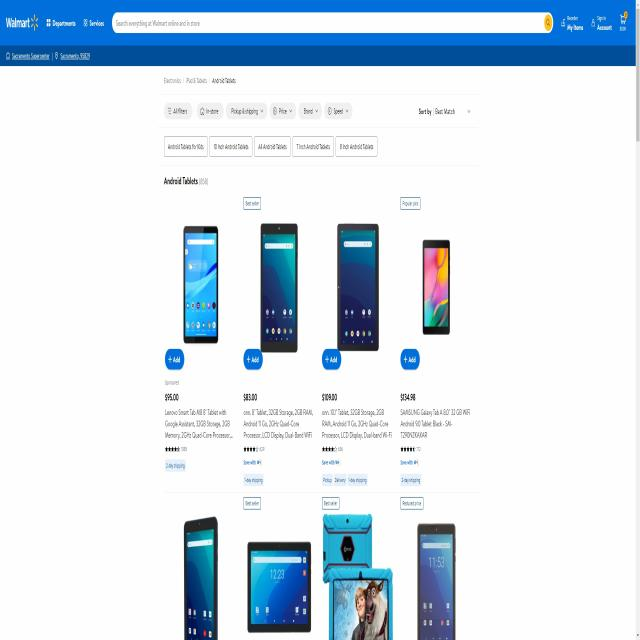menu-bar: (559, 7, 632, 39)
search: (111, 8, 556, 38)
tab-bar: (162, 132, 380, 159), (4, 11, 106, 34)
